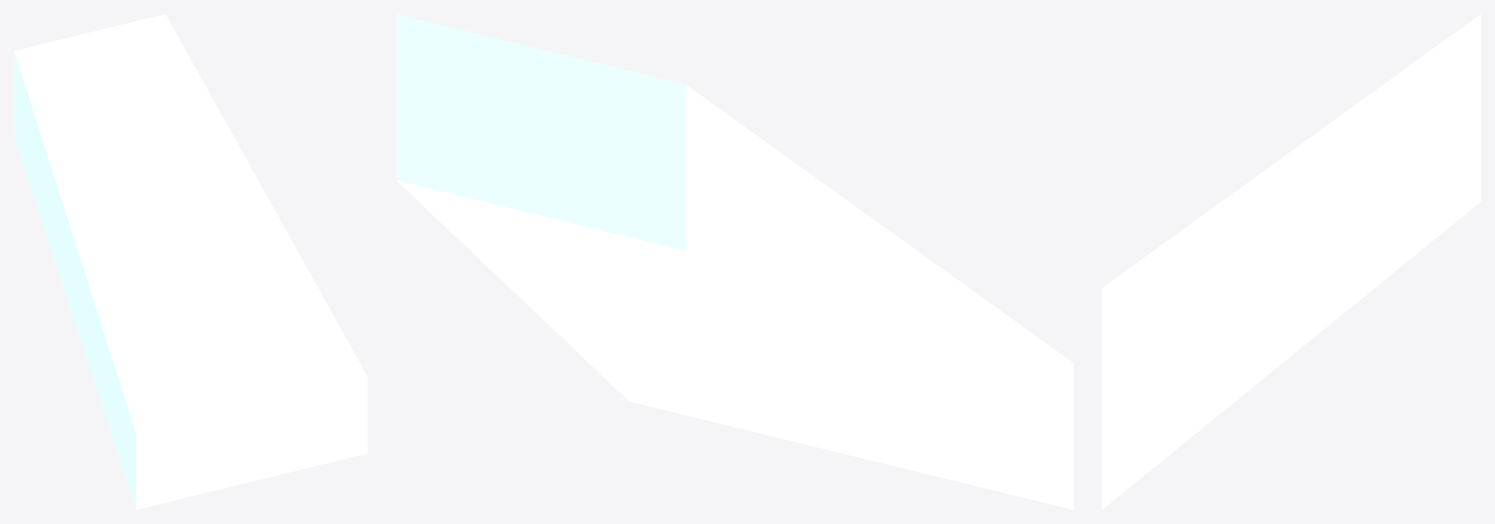
File: moonlight_shaft.glb
3 renders of one model, left to right at view 1: azimuth 30°, elevation 25°; view 2: azimuth 150°, elevation 25°; view 3: azimuth 270°, elevation 25°, orthographic. The views are drawn at different scales.
Parts seen in each view (by area): view 1: MoonShaft; view 2: MoonShaft; view 3: MoonShaft.
Part boxes in pixels (x1,y1,x2,y2): MoonShaft: (14, 14, 367, 509); MoonShaft: (396, 14, 1073, 509); MoonShaft: (1102, 14, 1480, 509).
Size of the model in its own units: 1.9 by 2.59 by 2.3.
